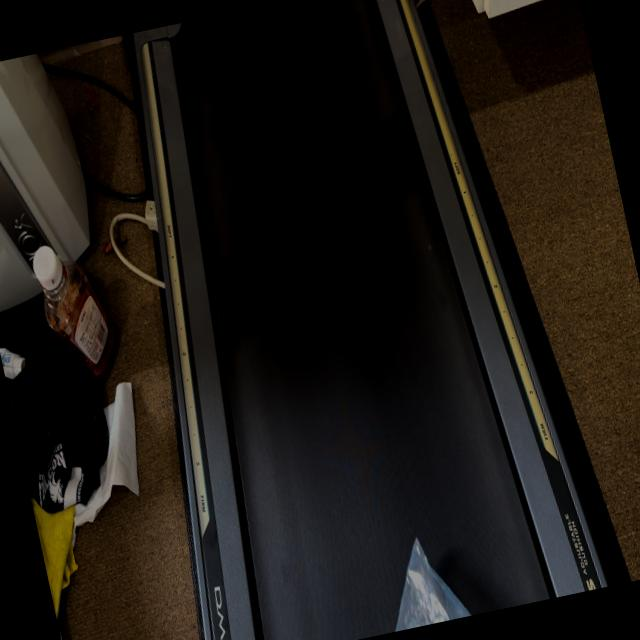Trash: (363, 512, 482, 633)
